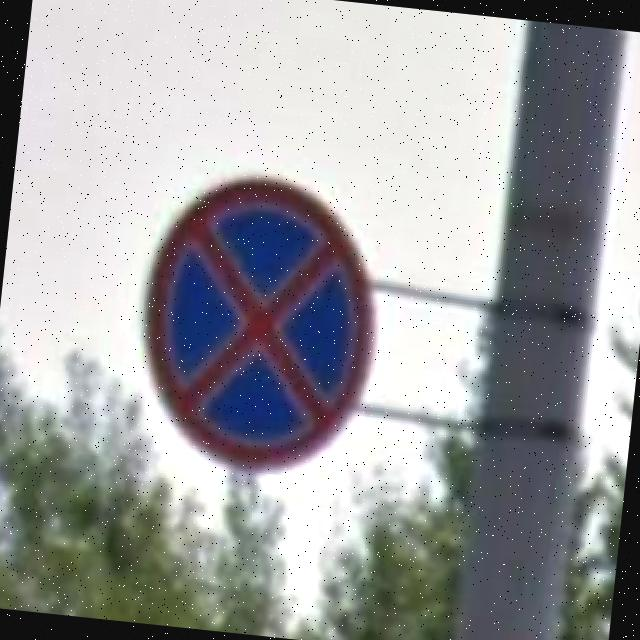Zakaz zatrzymywania sie: (130, 162, 389, 482)
